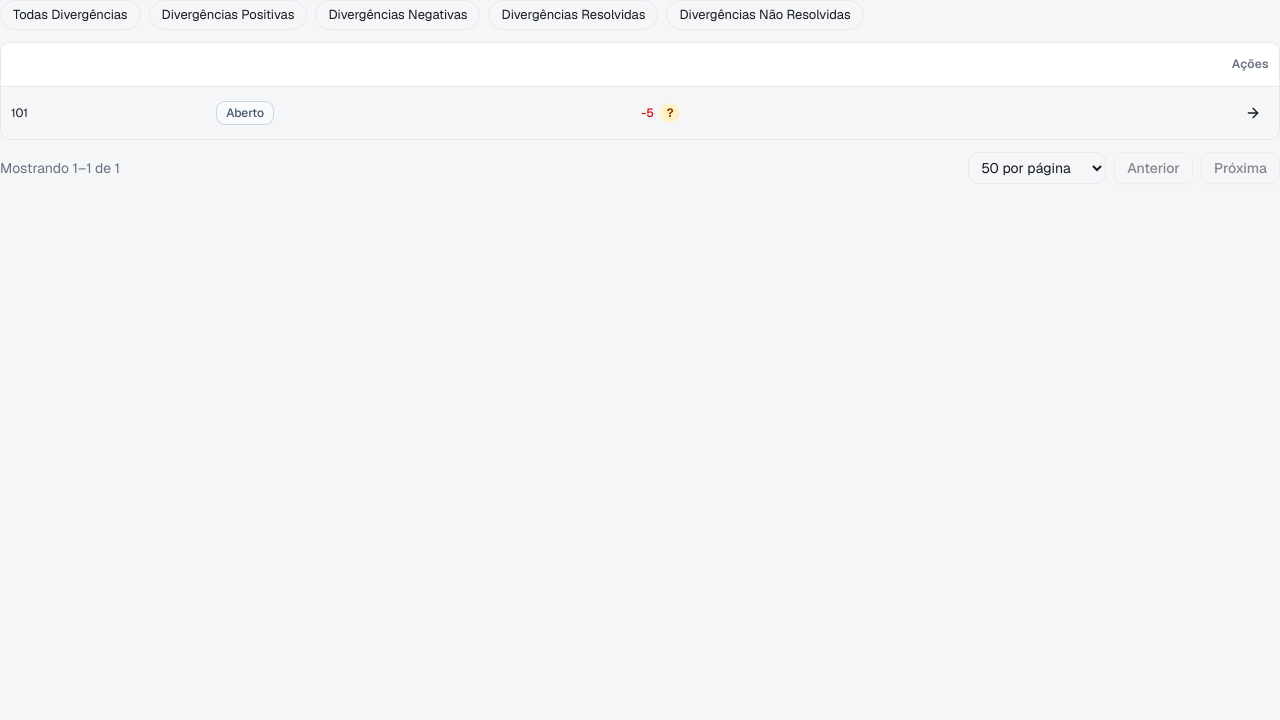
Test case: diálogo de justificativa › se o servidor recusa, mostra o erro e o selo não muda
Click the button named "Divergência sem justificativa" at [670, 113], box [660,103,680,123]
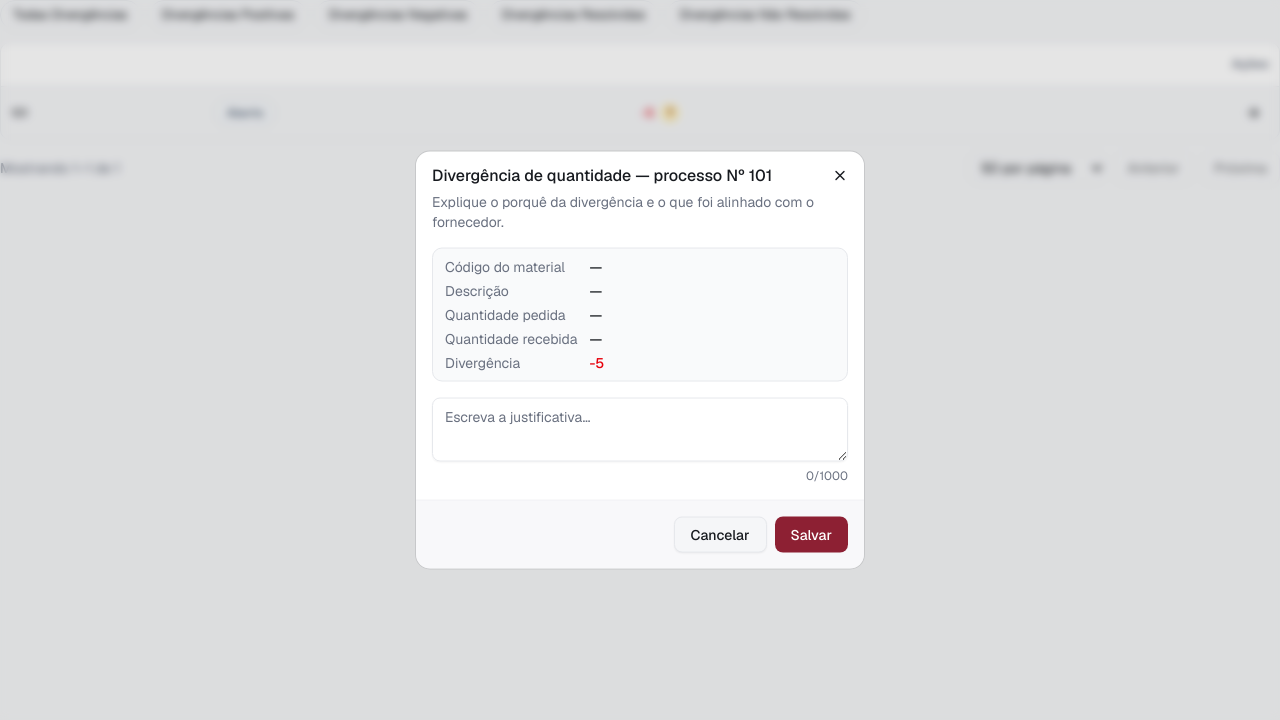
Type "tentativa" into the text box named "Justificativa da divergência" at [640, 430], box [432,398,848,462]
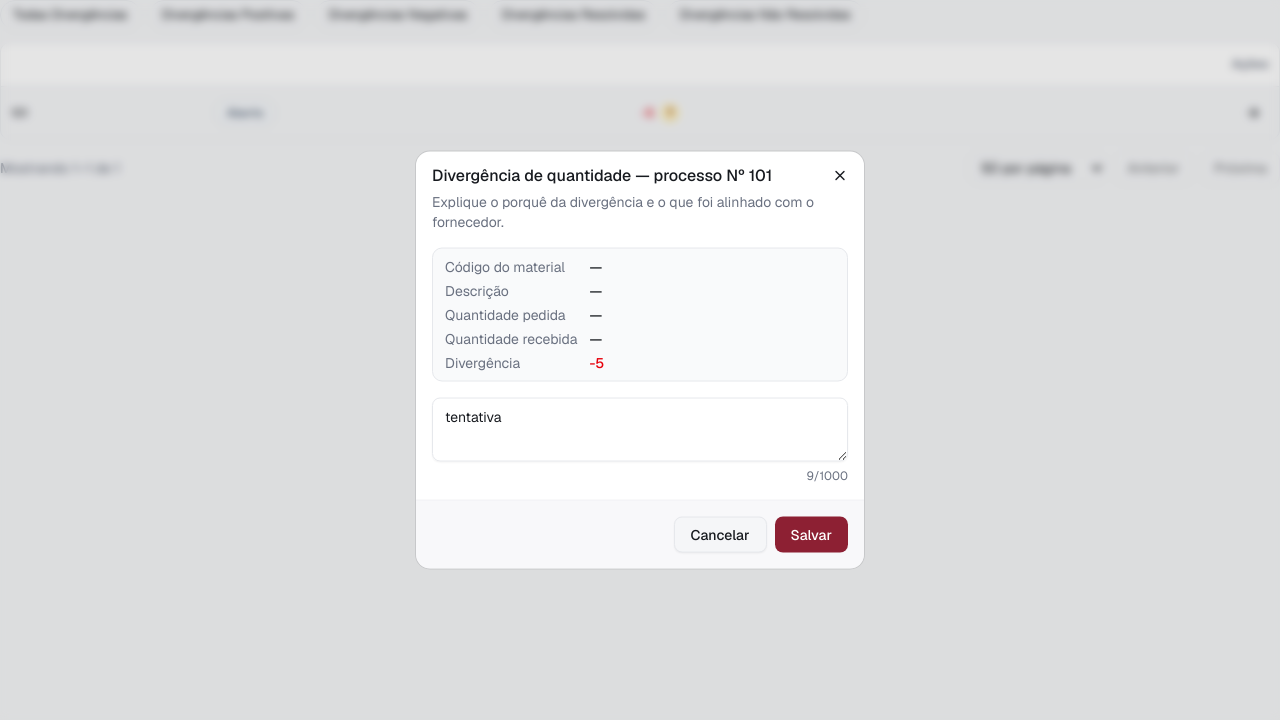
Click the button "Salvar" at [811, 534], box [774,516,848,552]
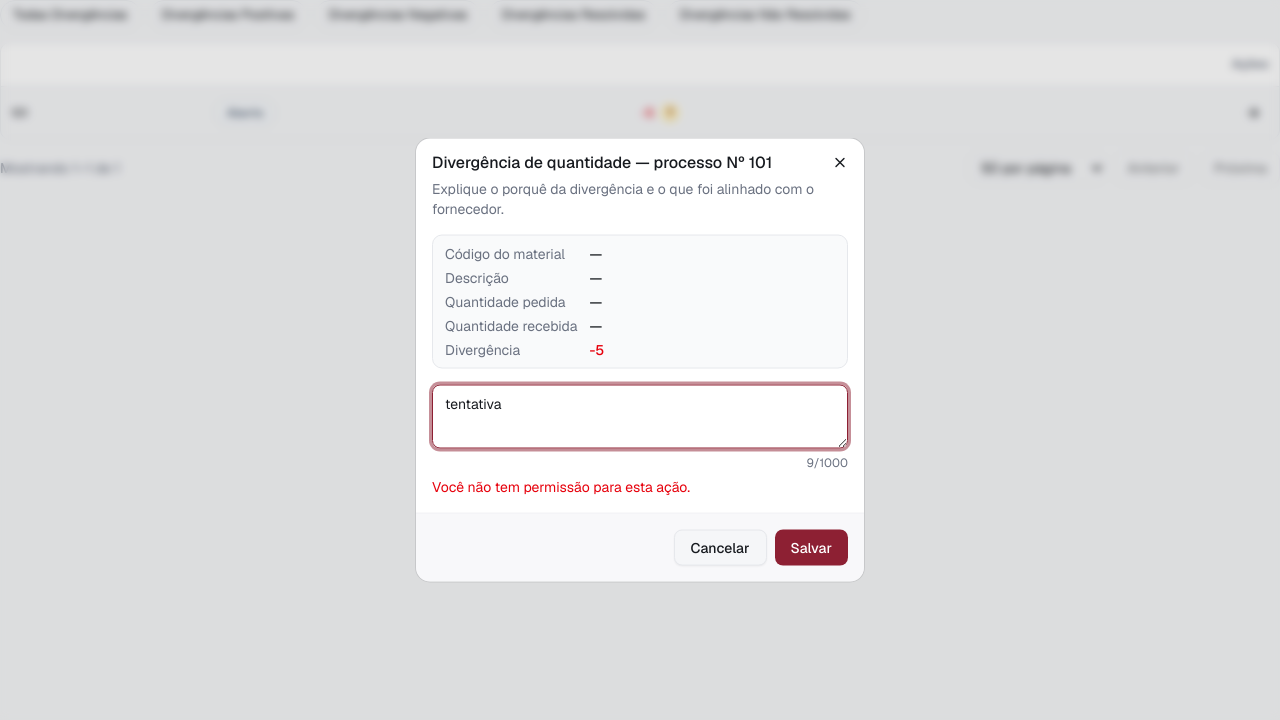
Check: the button named "Divergência sem justificativa" is shown, box [660,103,680,123]
Check: the message shows "Você não tem permissão", box [432,478,690,496]
